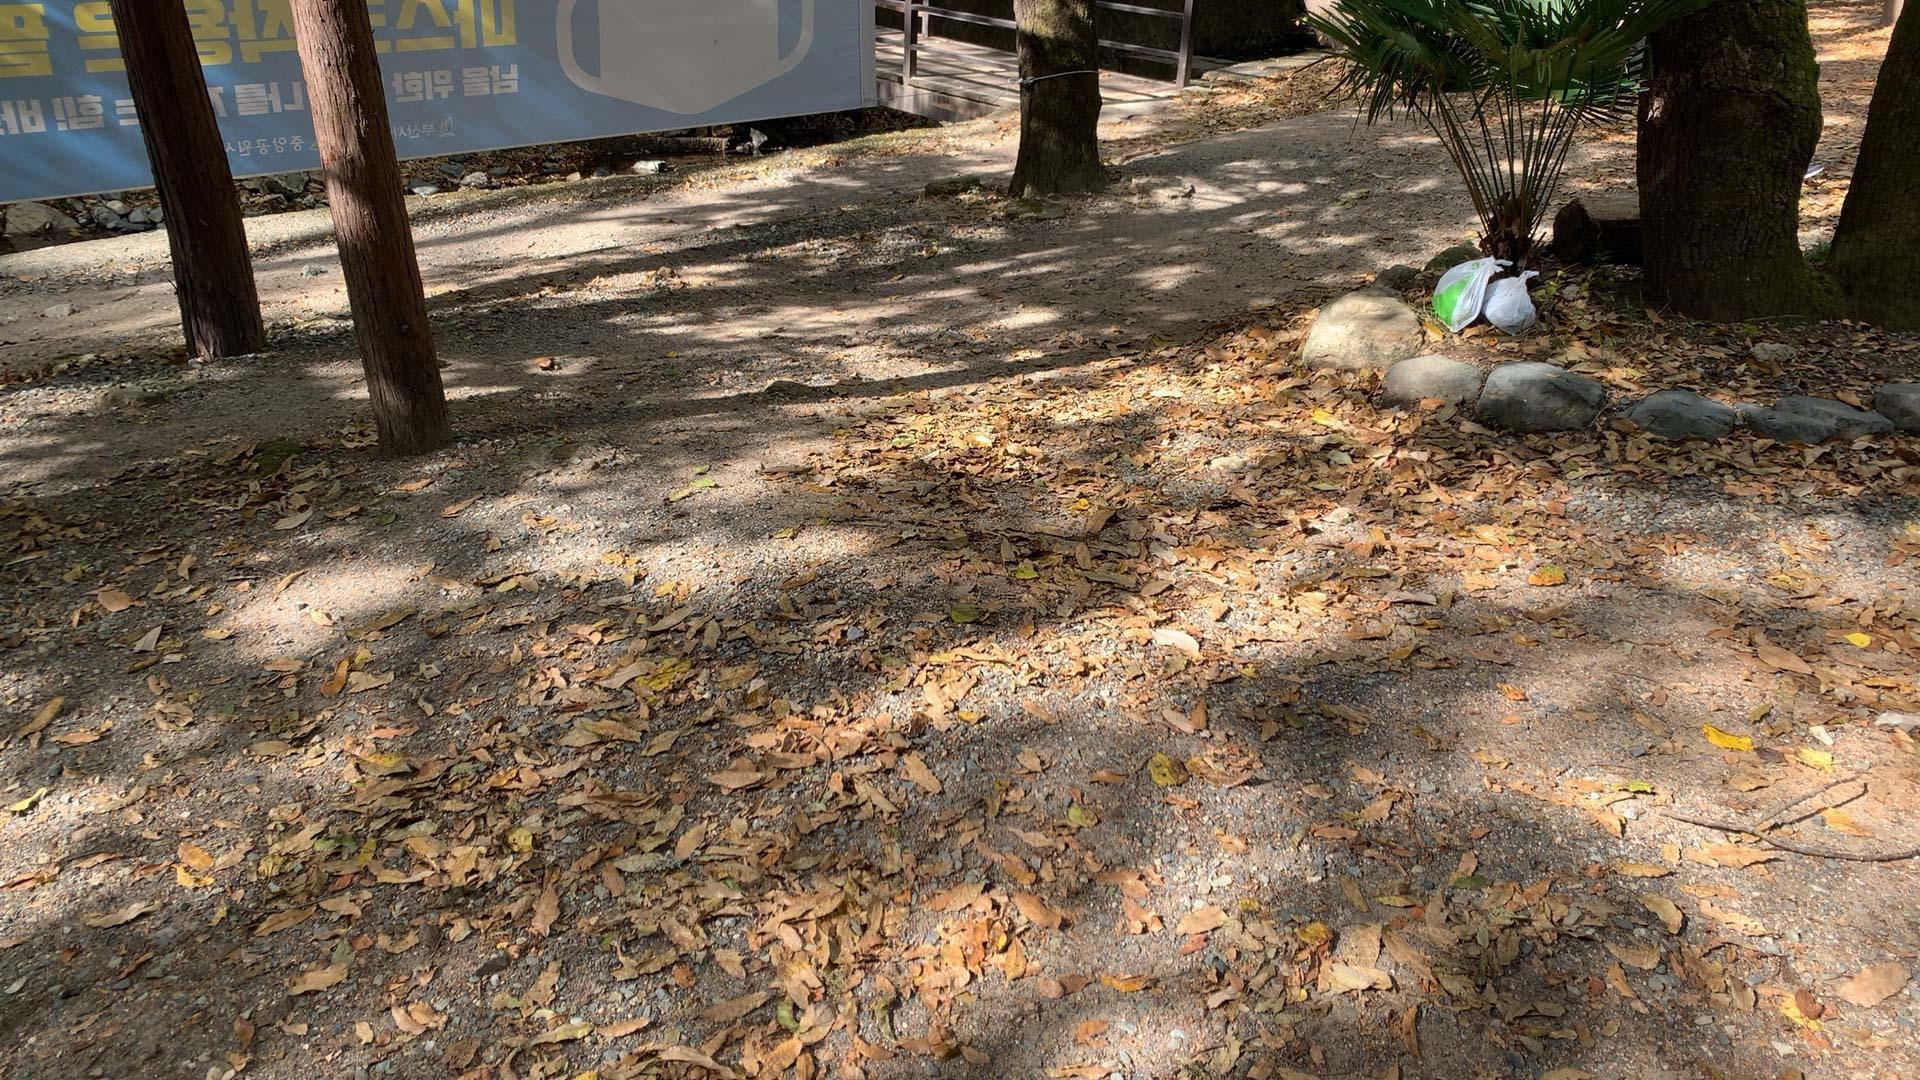white_bag: (1425, 251, 1513, 334), (1476, 262, 1542, 334)
